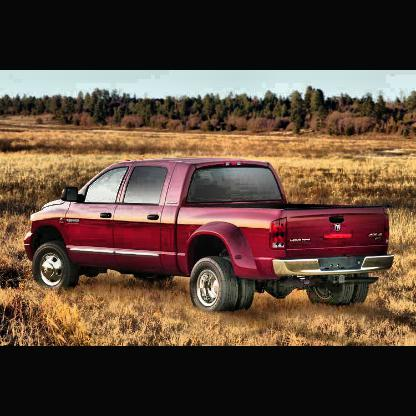Dodge Ram Pickup 3500 Quad Cab 2009: (23, 155, 397, 316)
